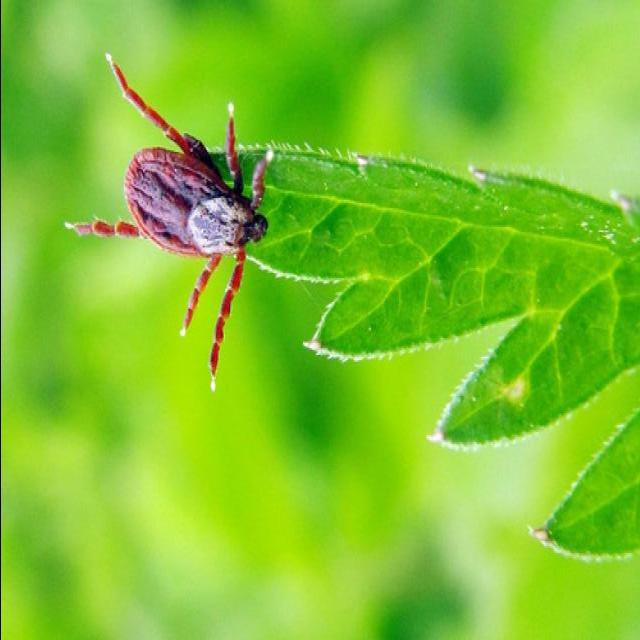Dermacentor Reticulatus-F: (68, 60, 270, 389)
